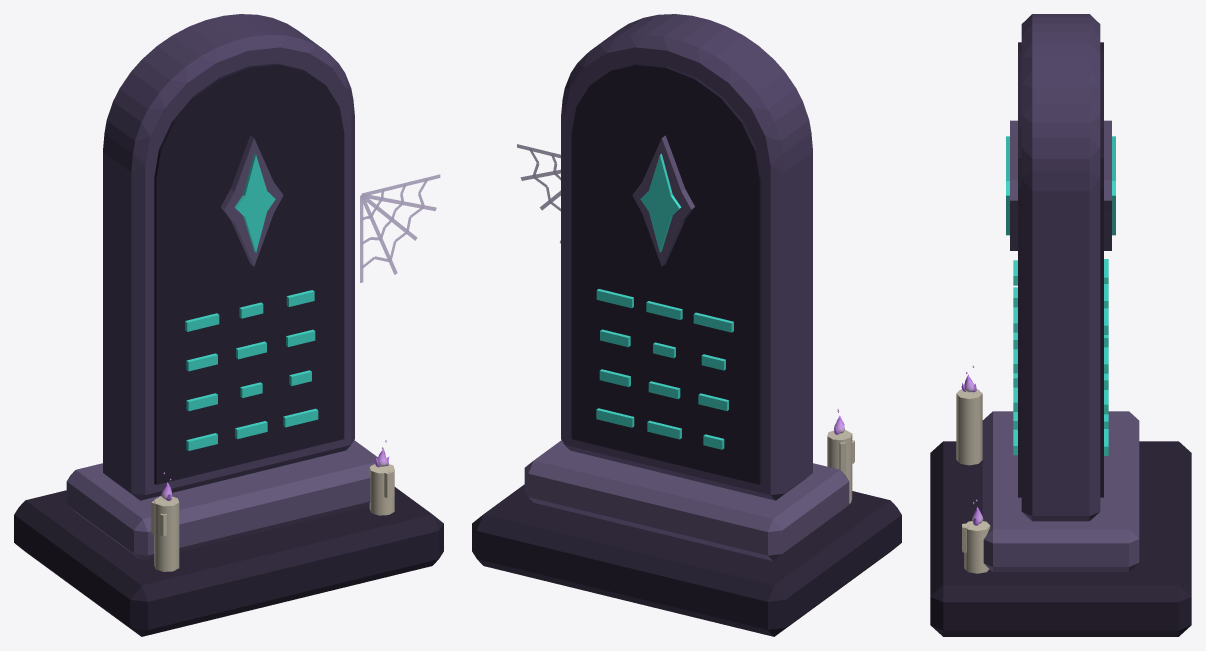
Rendered from lore_stone.fbx.
The picture shows the model from 3 angles, left to right: view 1: azimuth 30°, elevation 25°; view 2: azimuth 150°, elevation 25°; view 3: azimuth 270°, elevation 25°; orthographic projection.
Parts seen in each view (by area): view 1: lore_stone; view 2: lore_stone; view 3: lore_stone.
Part boxes in pixels (x1,y1,x2,y2): lore_stone: (14,14,443,636); lore_stone: (472,14,901,636); lore_stone: (930,14,1191,636).
Bounding box in the file's own units: 1.55 × 2.26 × 1.
